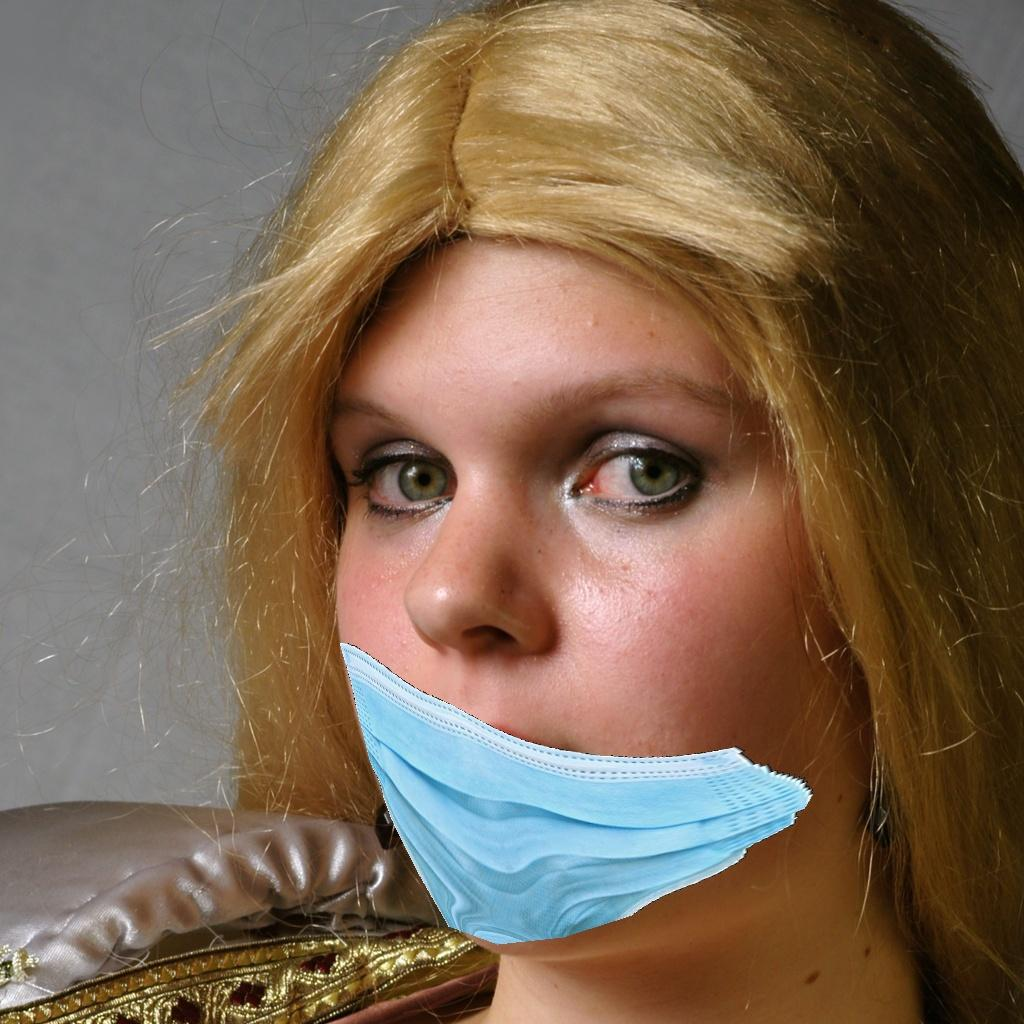Máscara Incorreta: (323, 335, 854, 932)
